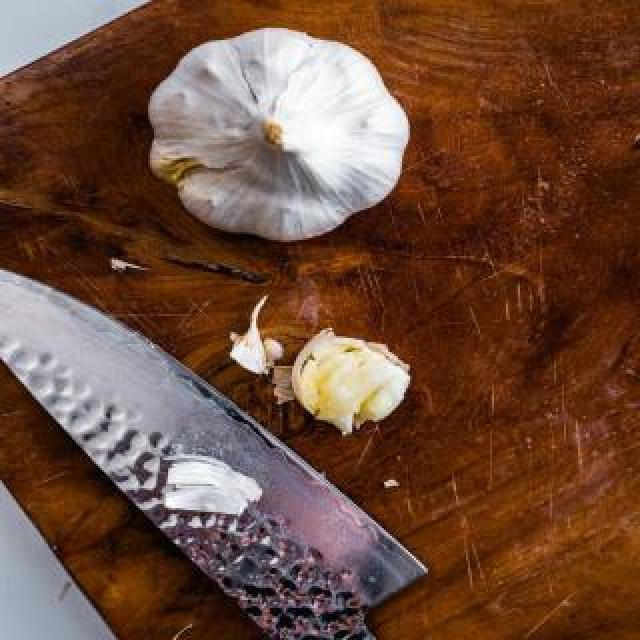Wet: (144, 22, 414, 246)
